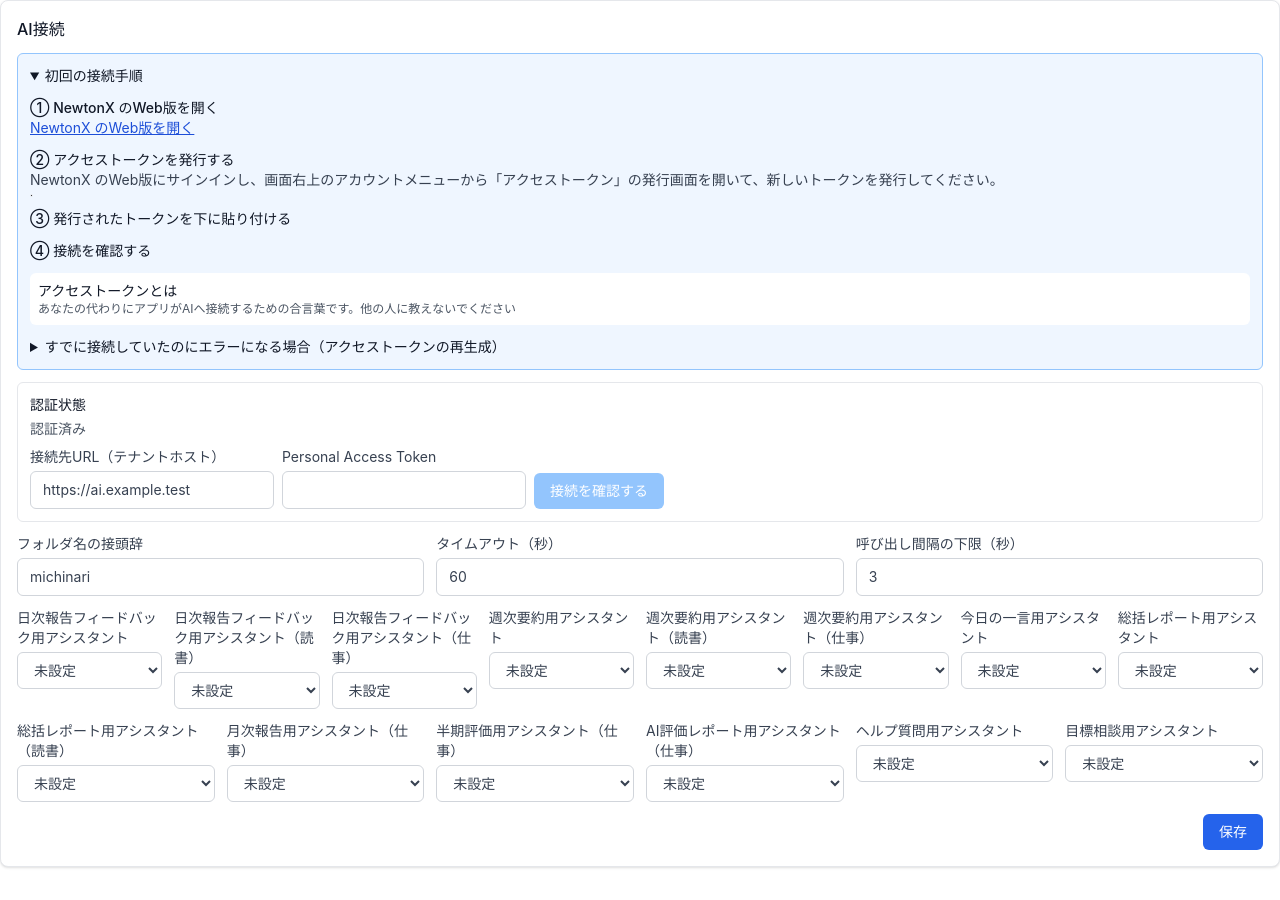
Test: AiConnectionSection の再認証 › tells the user the reauth succeeded
Expected: the heading "AI接続" is shown, [17,19,65,39]
In the password field labelled "Personal Access Token": (404, 490) [282,471,526,509], type "p"
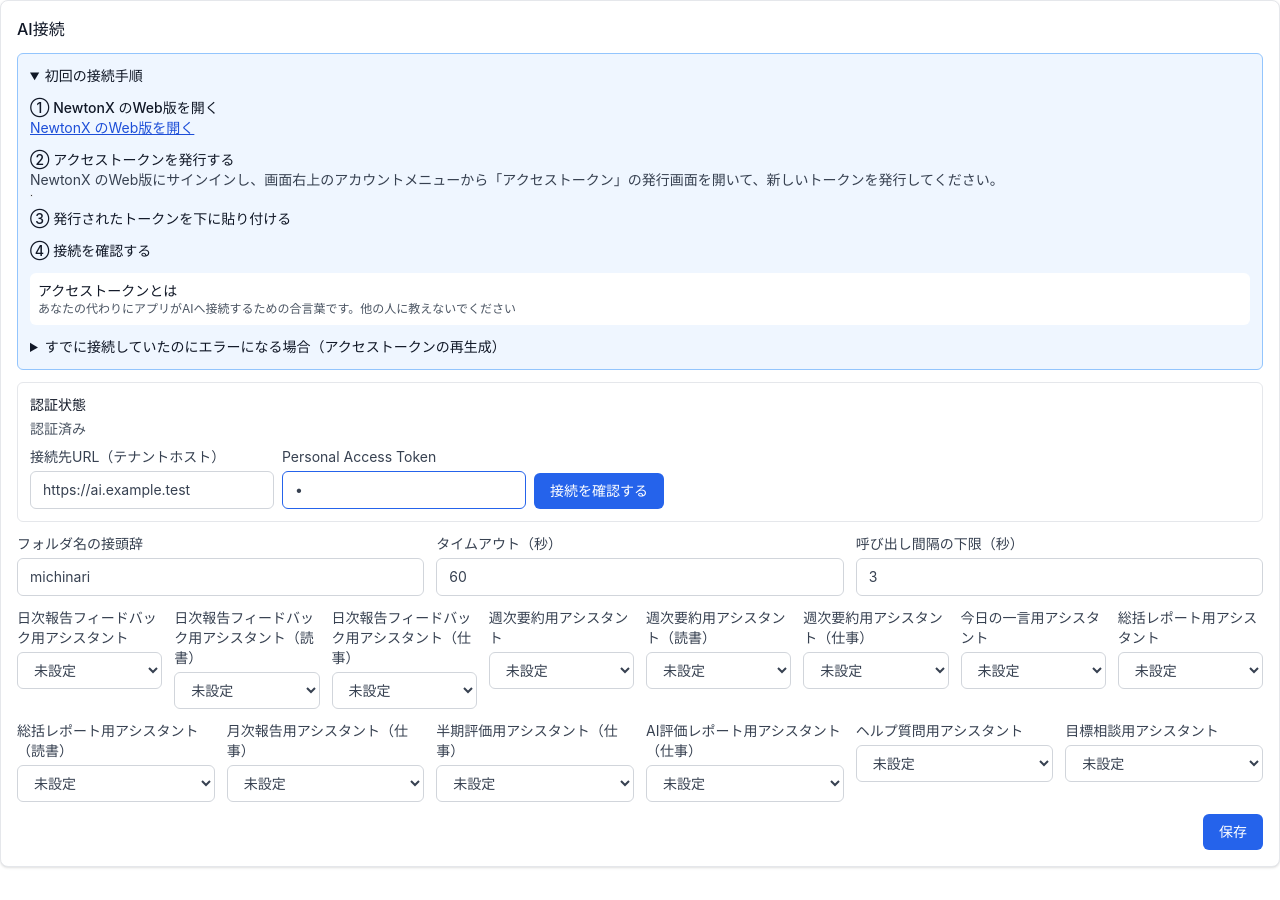
Click the button "接続を確認する": (599, 491) [534,473,664,509]
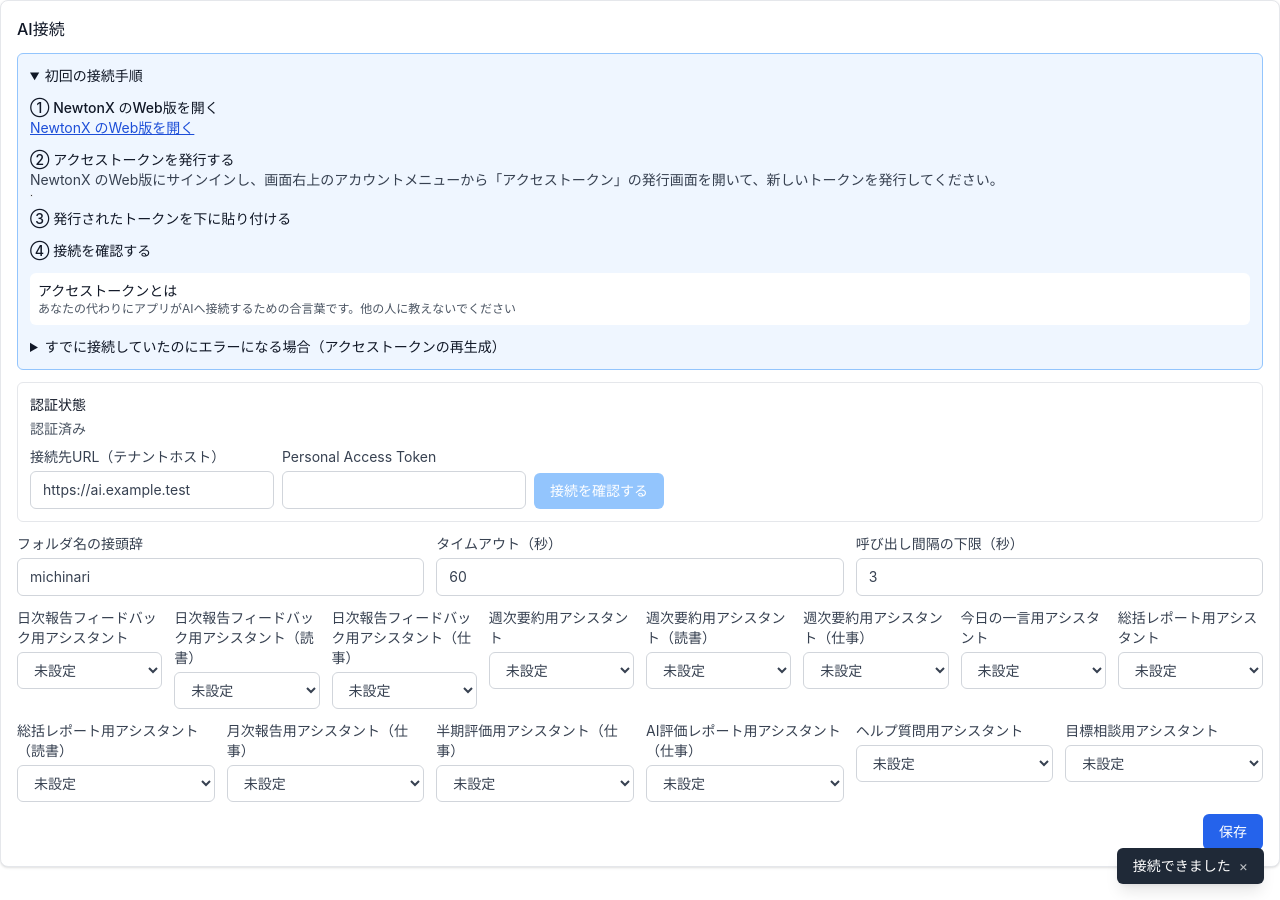
Result: the text "接続できました" is shown at [1133,856,1231,876]
